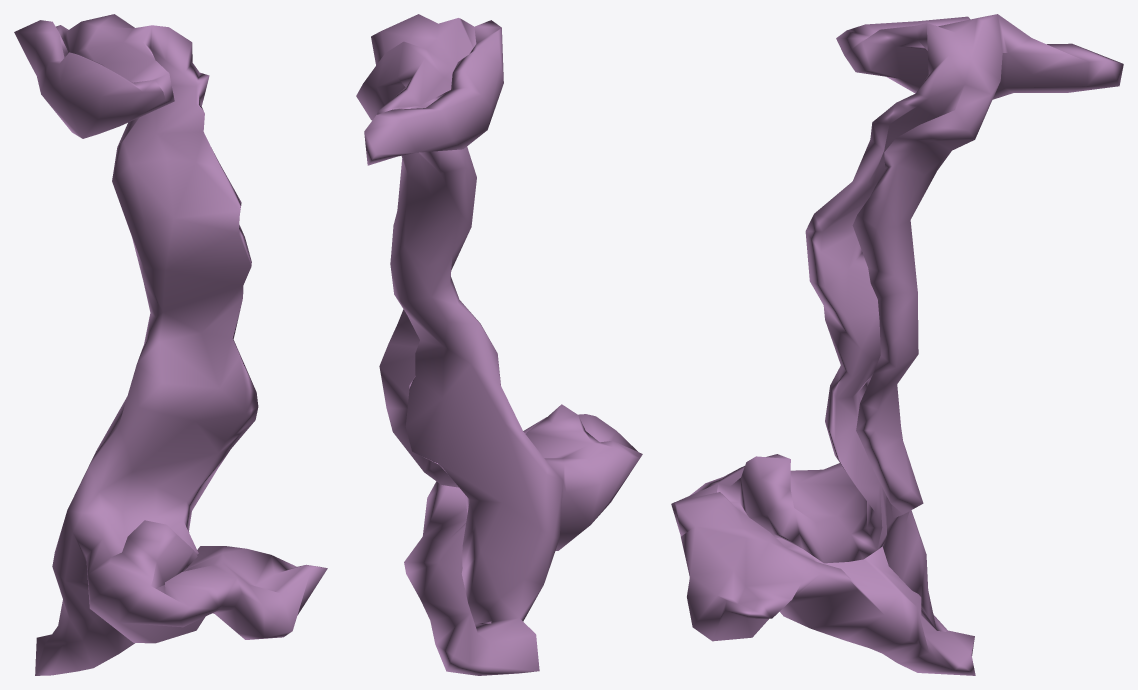
3 renders of one model, left to right at view 1: azimuth 30°, elevation 25°; view 2: azimuth 150°, elevation 25°; view 3: azimuth 270°, elevation 25°, orthographic. The views are drawn at different scales.
Visible parts, largest first — view 1: 右侧距状沟; view 2: 右侧距状沟; view 3: 右侧距状沟.
Part boxes in pixels (box(x1,y1,x2,y2)): 右侧距状沟: box(14, 14, 327, 675); 右侧距状沟: box(356, 14, 642, 675); 右侧距状沟: box(671, 14, 1123, 675).
Size of the model in its own units: 0.0288 by 0.0818 by 0.0488.
